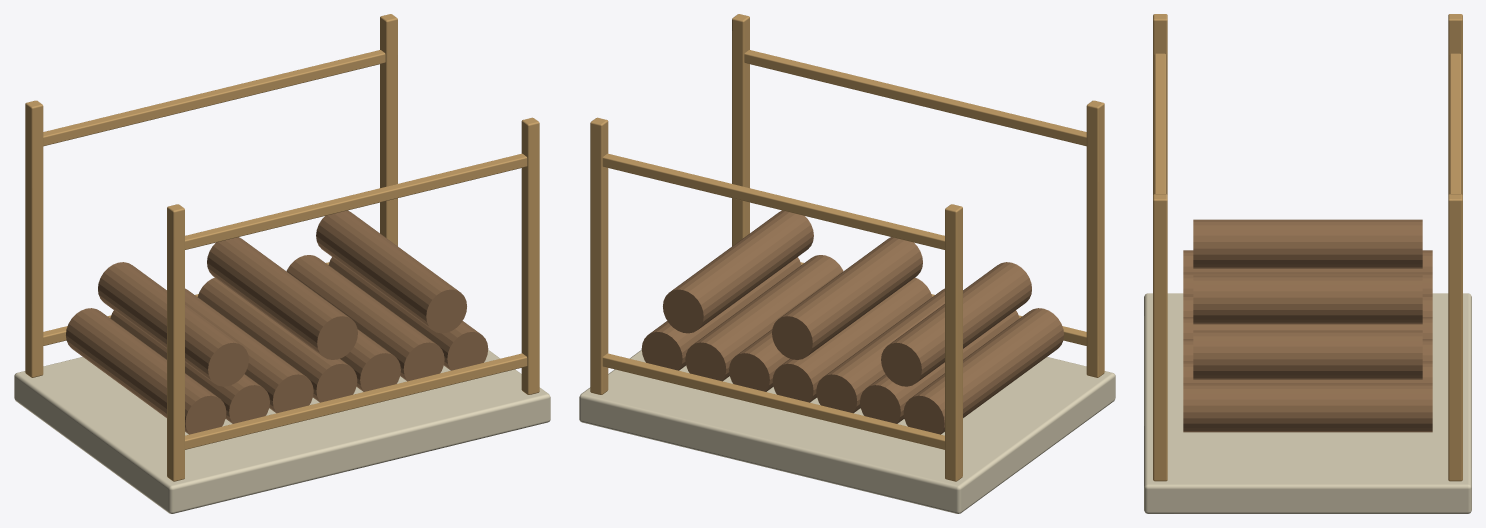
The model's file is fantasy-bathhouse-and-thermal-sanctuary-fantasy-bathho-73d8f5fa__29448.glb.
3 views of the same model, side by side, from view 1: azimuth 30°, elevation 25°; view 2: azimuth 150°, elevation 25°; view 3: azimuth 270°, elevation 25° (orthographic). The views are drawn at different scales.
Visible parts, largest first — view 1: fantasy-bathhouse-and-thermal-sanctuary-fuel-storage-cage; view 2: fantasy-bathhouse-and-thermal-sanctuary-fuel-storage-cage; view 3: fantasy-bathhouse-and-thermal-sanctuary-fuel-storage-cage.
Part boxes in pixels (x1,y1,x2,y2): fantasy-bathhouse-and-thermal-sanctuary-fuel-storage-cage: (14, 14, 550, 513); fantasy-bathhouse-and-thermal-sanctuary-fuel-storage-cage: (579, 14, 1115, 513); fantasy-bathhouse-and-thermal-sanctuary-fuel-storage-cage: (1144, 14, 1471, 513).
Size of the model in its own units: 1.4 by 1.05 by 1.
